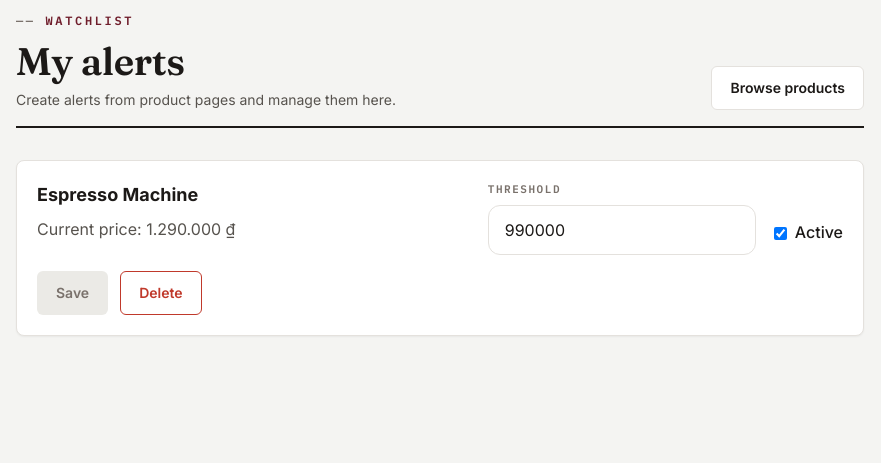
Test case: Alerts page › shows a validation error above the list rather than instead of it
Clear the number field at (622, 230), box [488,205,756,255]
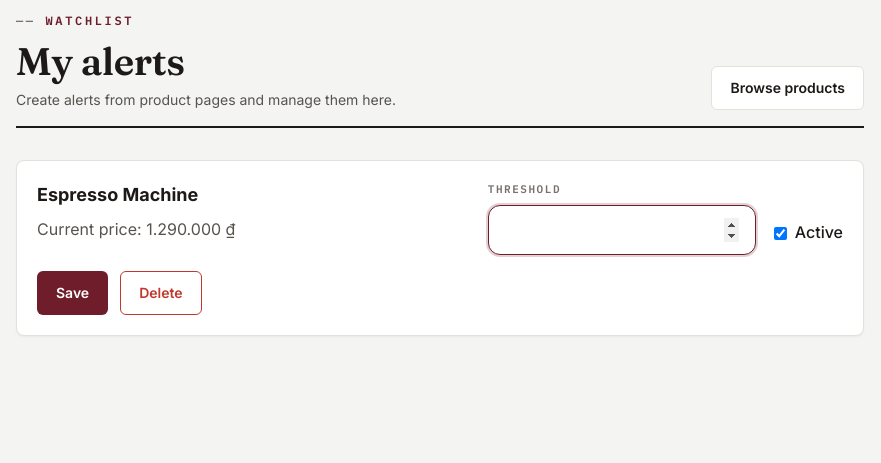
Click the button "Save" at (73, 293), box [37,271,108,315]
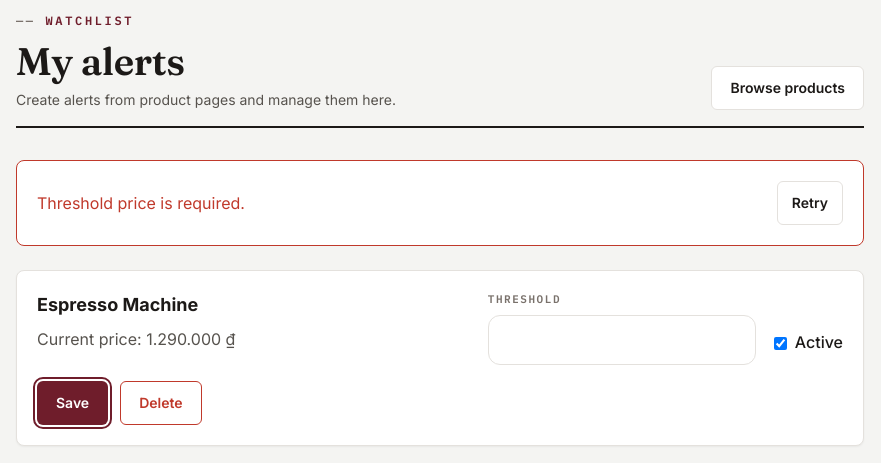
Expected: the link "Espresso Machine" is shown, [37,294,198,316]
Expected: the text "Threshold price is required." is shown, [37,191,245,216]
